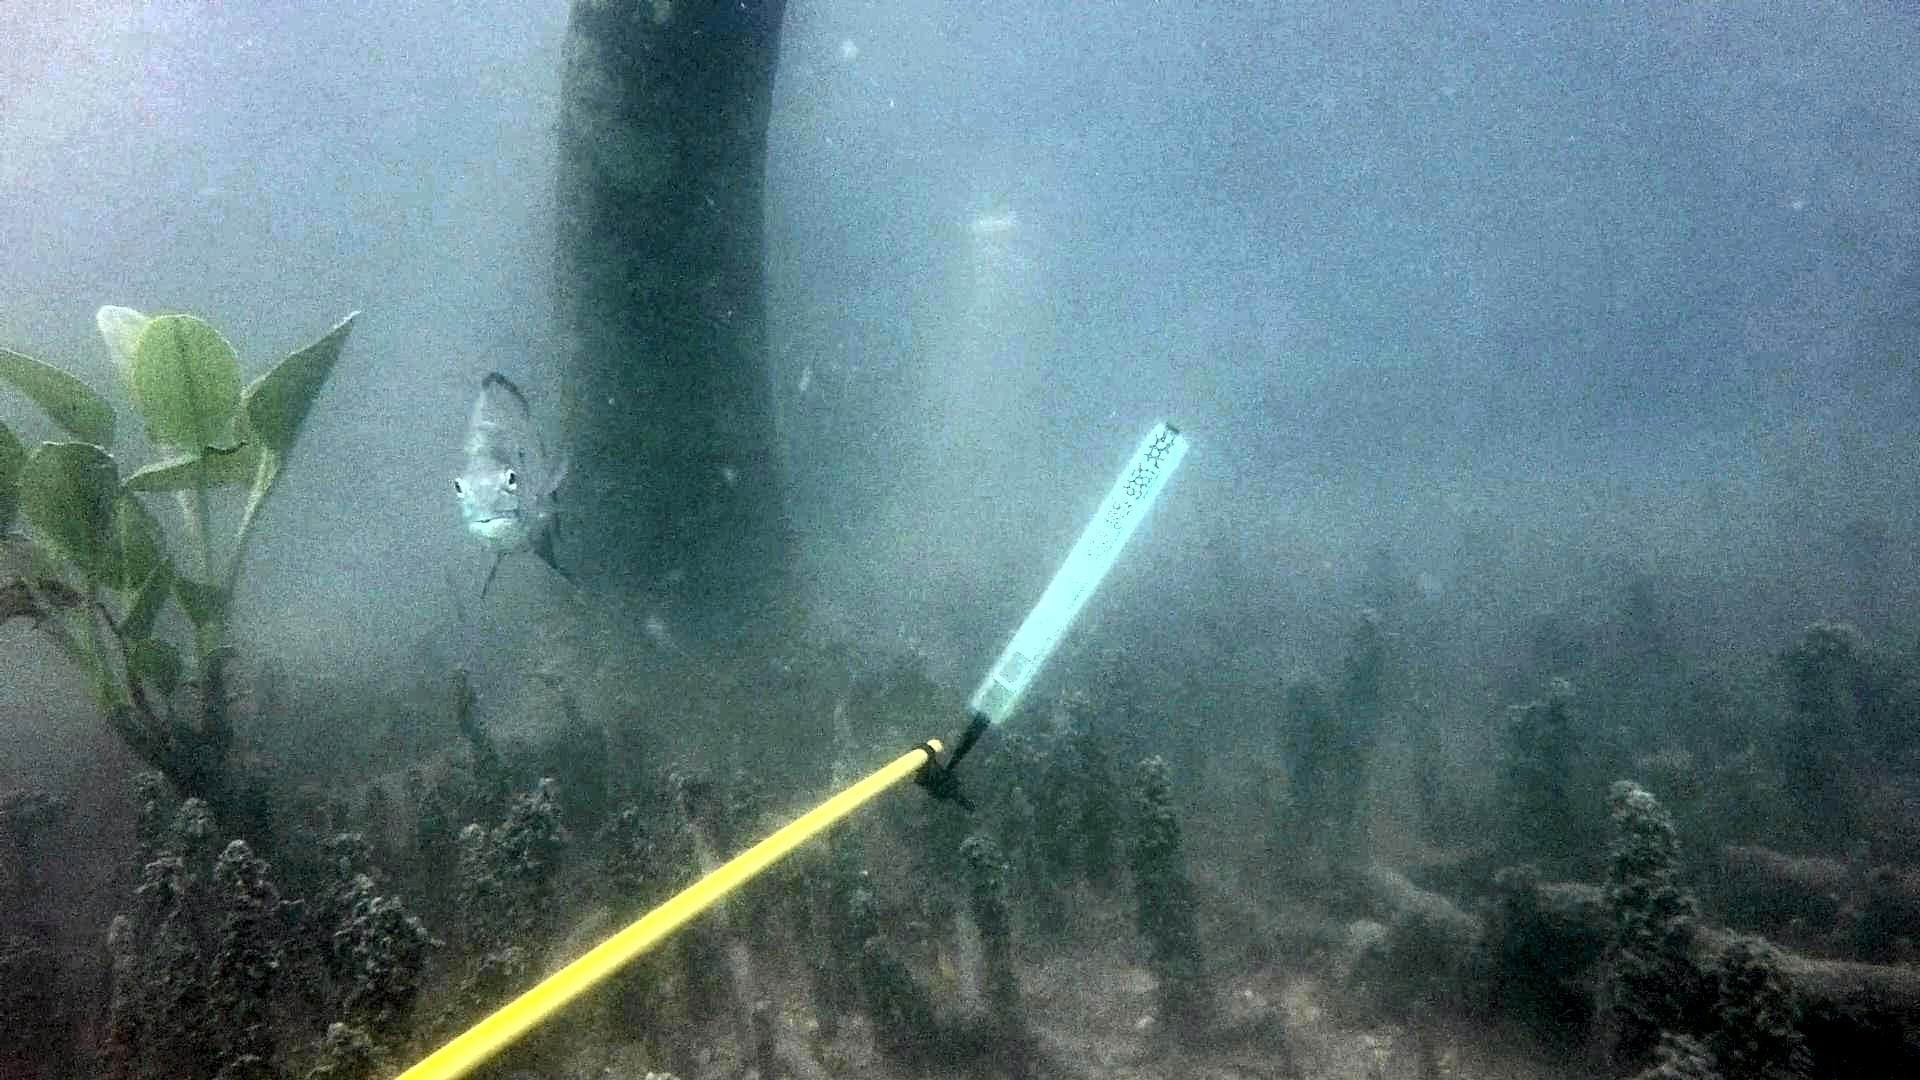acanthopagrus palmaris: (448, 365, 608, 609)
